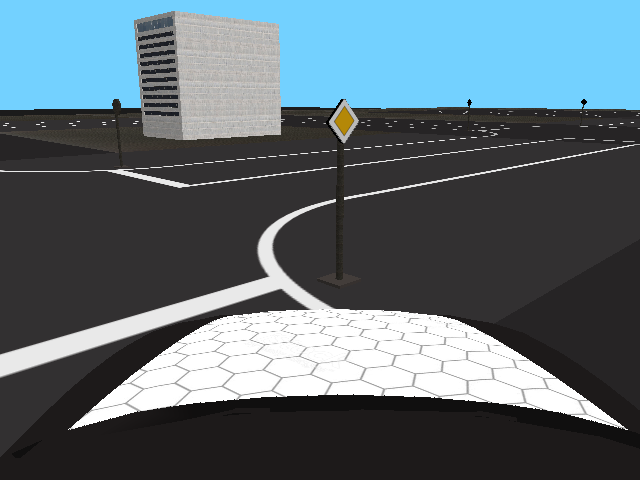yellow_light: (327, 97, 361, 143)
